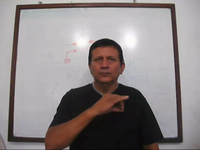oi: (92, 91, 134, 115)
